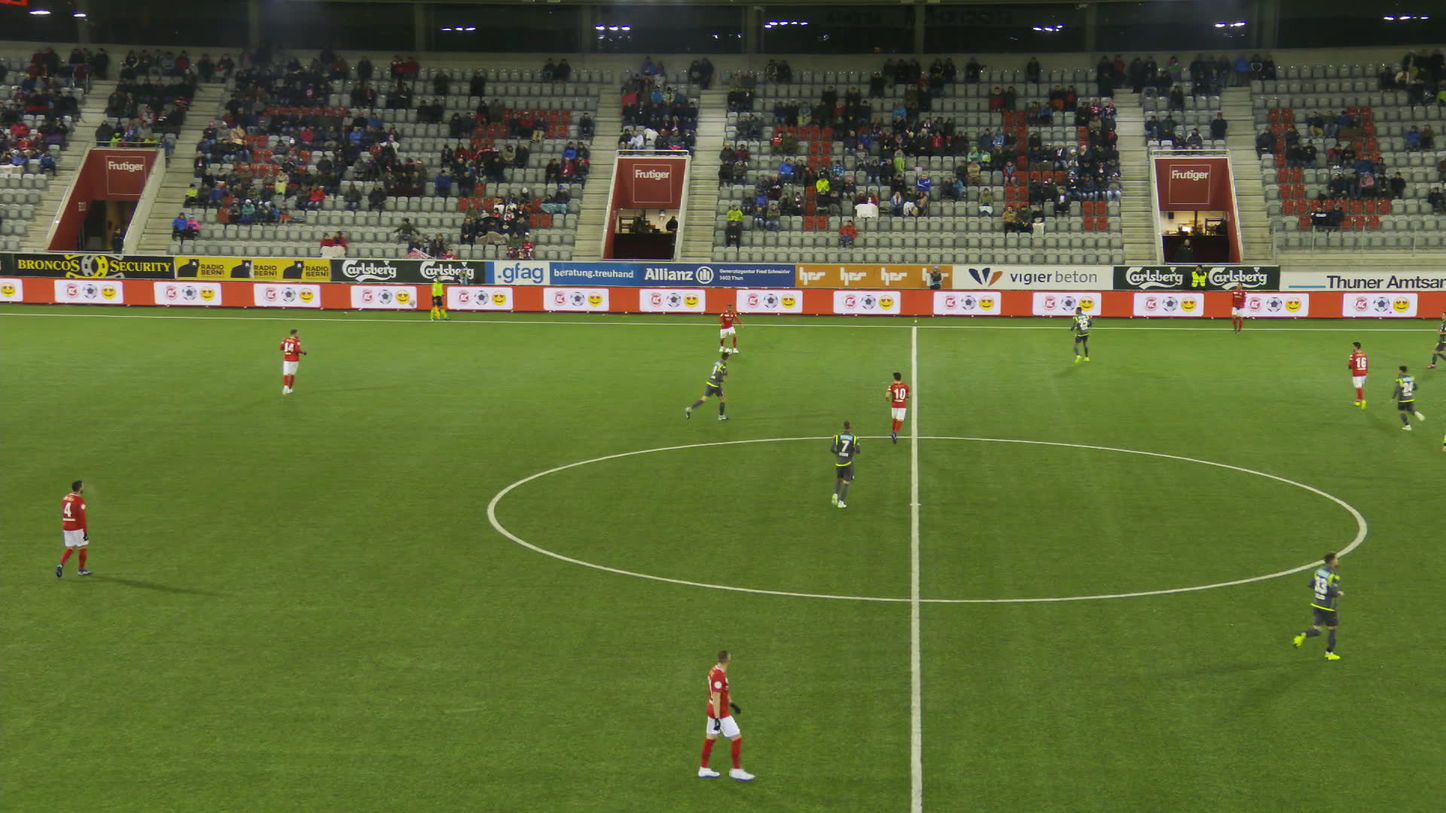ball: (725, 347, 732, 354)
player: (697, 647, 743, 781), (1286, 552, 1342, 656), (54, 479, 93, 578), (684, 351, 728, 422), (828, 421, 861, 508), (1393, 364, 1426, 431), (883, 372, 911, 444), (279, 327, 307, 394), (1348, 340, 1369, 408), (717, 303, 744, 355), (1069, 306, 1092, 364), (1424, 312, 1445, 368), (1230, 282, 1246, 333)
referee: (429, 274, 450, 320), (1441, 432, 1445, 451)
